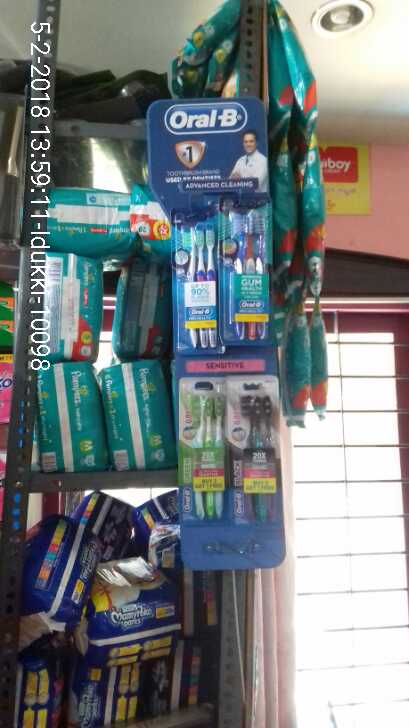oralb: (215, 187, 277, 347), (170, 376, 235, 523), (233, 369, 292, 524), (170, 215, 227, 352)
